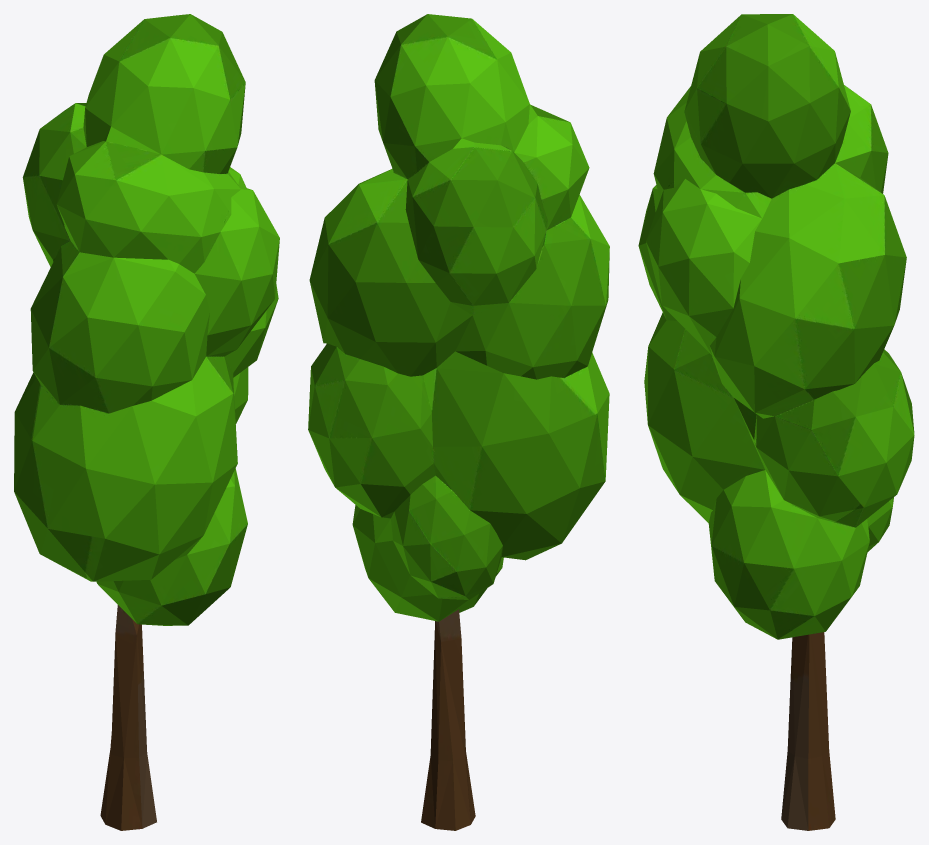
The model's file is tree7-transformed.glb.
3 renders of one model, left to right at view 1: azimuth 30°, elevation 25°; view 2: azimuth 150°, elevation 25°; view 3: azimuth 270°, elevation 25°, orthographic. The views are drawn at different scales.
Parts seen in each view (by area): view 1: _7_tree__7_tree_0; view 2: _7_tree__7_tree_0; view 3: _7_tree__7_tree_0.
Boxes of the visible parts, bbox=[...] form: _7_tree__7_tree_0: bbox=[14, 14, 279, 830]; _7_tree__7_tree_0: bbox=[308, 14, 609, 830]; _7_tree__7_tree_0: bbox=[638, 14, 914, 830].
Size of the model in its own units: 0.9204 by 2.78 by 0.8523.
Materials: 1 (1 with a texture image).
